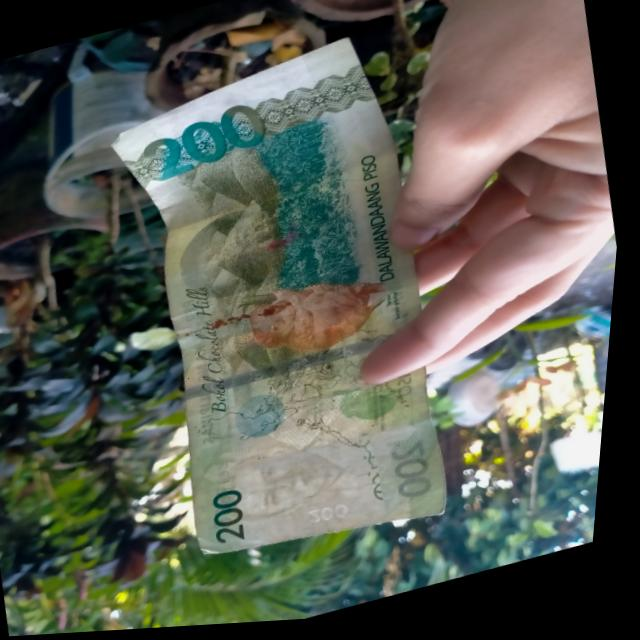security_thread: (185, 334, 416, 406)
see_through_mark: (351, 422, 407, 519)
value: (136, 101, 282, 195)
value_watermark: (305, 500, 364, 535)
watermark: (224, 412, 399, 539)
